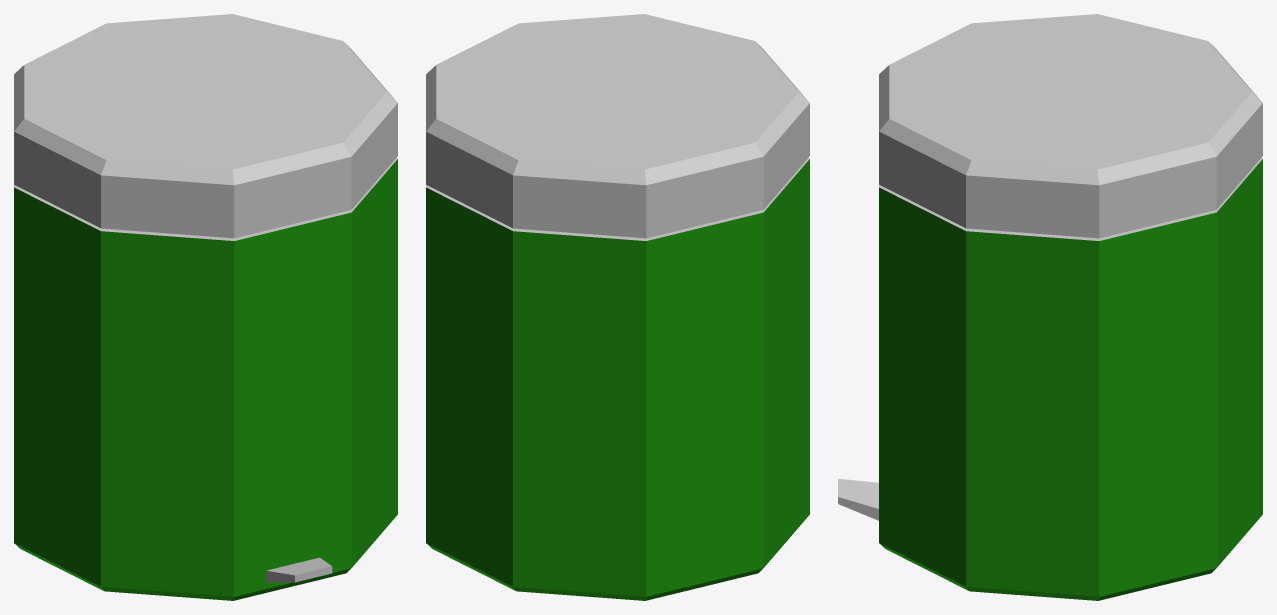
The model's file is trash2.gltf.
3 views of the same model, side by side, from view 1: azimuth 30°, elevation 25°; view 2: azimuth 150°, elevation 25°; view 3: azimuth 270°, elevation 25° (orthographic).
Visible parts, largest first — view 1: Cube; view 2: Cube; view 3: Cube.
Part boxes in pixels (x1,y1,x2,y2): Cube: [14, 14, 397, 600]; Cube: [426, 14, 809, 600]; Cube: [838, 14, 1262, 600].
Size of the model in its own units: 0.1399 by 0.1702 by 0.1525.
1 material, 1 textured.
